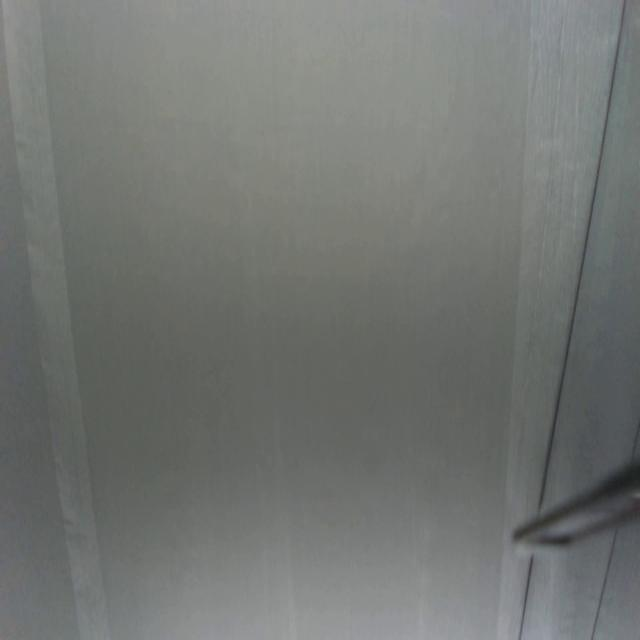crease: (2, 1, 110, 640), (537, 0, 630, 508), (591, 526, 621, 638), (517, 556, 535, 640)
